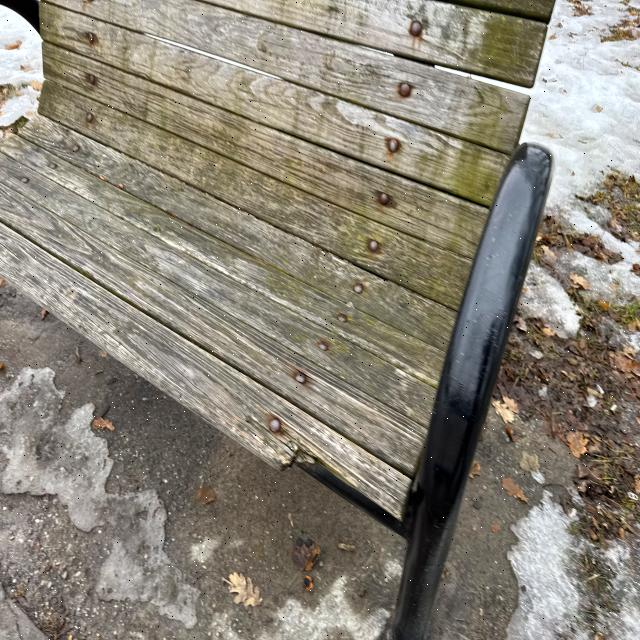Bench: (119, 4, 555, 624), (4, 8, 555, 434)
